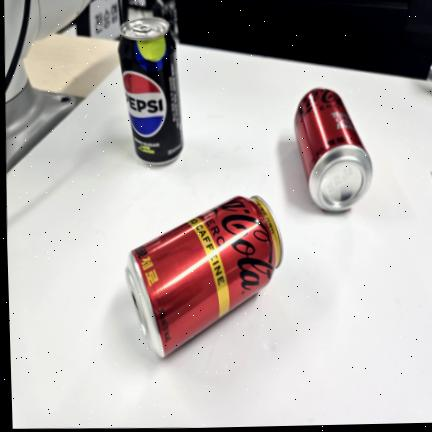can_coke_decaf: (125, 195, 282, 356)
can_coke_zero: (294, 88, 372, 211)
can_pepsi_zero: (118, 17, 182, 164)
